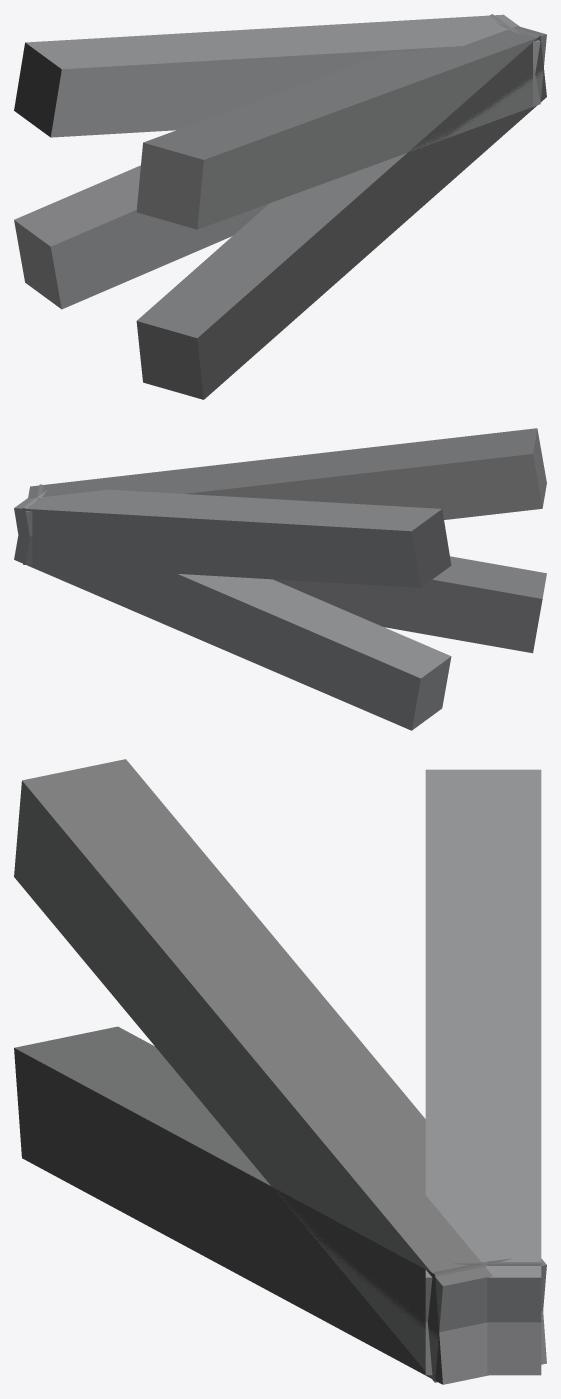
3 renders of one model, top to bottom at view 1: azimuth 30°, elevation 25°; view 2: azimuth 150°, elevation 25°; view 3: azimuth 270°, elevation 25°, orthographic. The views are drawn at different scales.
Bounding box in the file's own units: 0.525 × 0.2345 × 0.2997.
